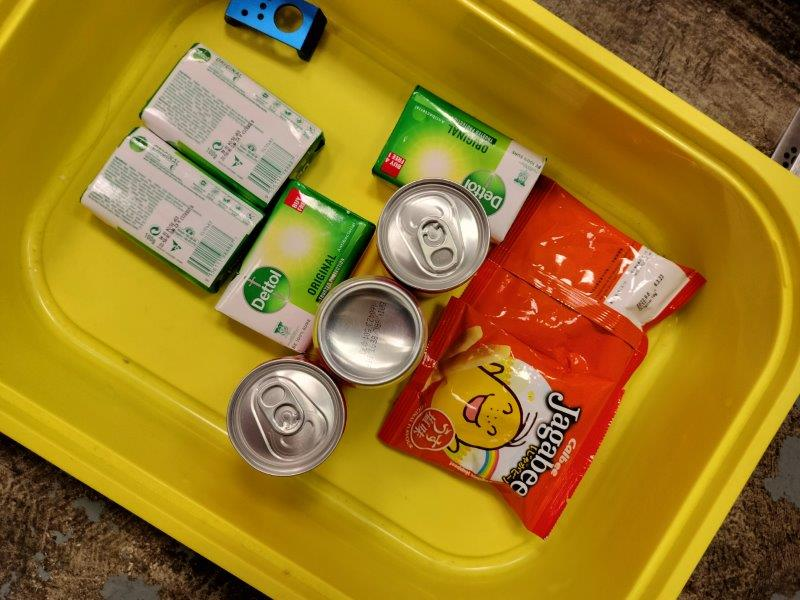Coke: (231, 361, 343, 476), (378, 179, 490, 292), (317, 280, 423, 384)
Dettol: (80, 126, 262, 286), (143, 45, 322, 204), (217, 186, 372, 352), (377, 91, 544, 239)
Jagabee: (376, 298, 621, 538), (457, 174, 699, 389)
